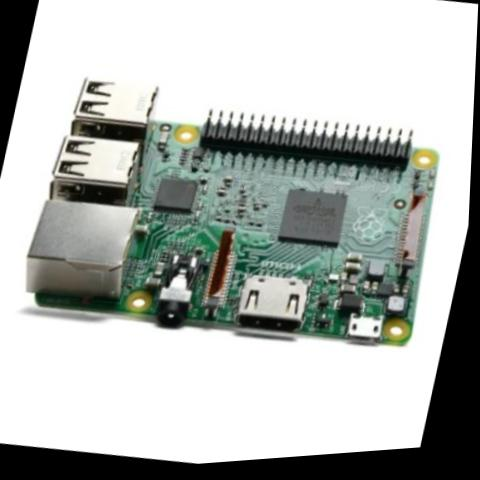Raspberry-Pi-2-Model-B: (6, 42, 471, 395)
